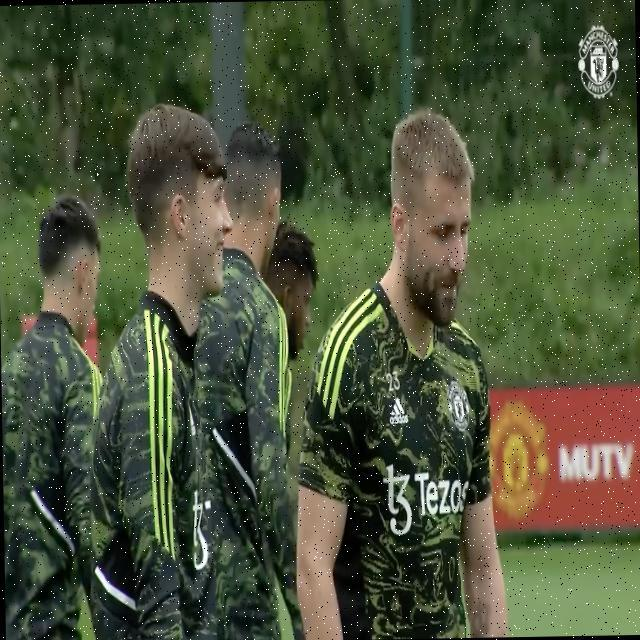Adidas: (389, 393, 408, 427)
